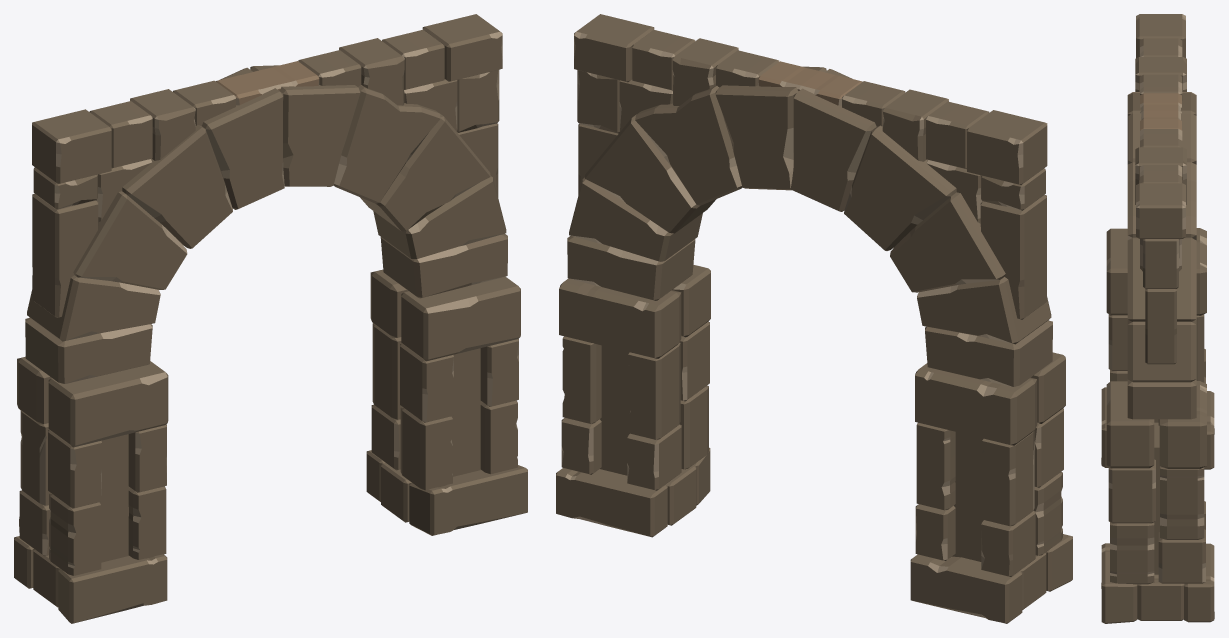
File: arch.fbx
The picture shows the model from 3 angles, left to right: view 1: azimuth 30°, elevation 25°; view 2: azimuth 150°, elevation 25°; view 3: azimuth 270°, elevation 25°; orthographic projection. The views are drawn at different scales.
Visible parts, largest first — view 1: Arch; view 2: Arch; view 3: Arch.
Boxes of the visible parts, box(x1,y1,x2,y2) form: Arch: box(14, 14, 527, 623); Arch: box(556, 14, 1072, 623); Arch: box(1101, 14, 1214, 623).
Size of the model in its own units: 410 by 401 by 99.26.
